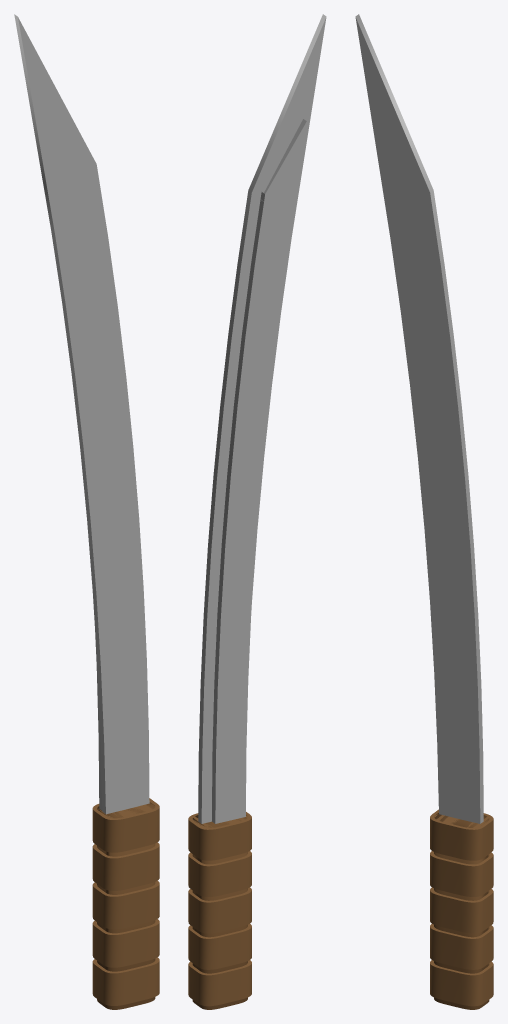
Rendered from Katanas.glb.
3 views of the same model, side by side, from view 1: azimuth 30°, elevation 25°; view 2: azimuth 210°, elevation 25°; view 3: azimuth 330°, elevation 25° (orthographic). The views are drawn at different scales.
Parts seen in each view (by area): view 1: Root; view 2: Root; view 3: Root.
Part boxes in pixels (x1,y1,x2,y2): Root: (14,14,159,1009); Root: (188,14,326,1009); Root: (355,14,493,1009).
Size of the model in its own units: 0.1605 by 1.13 by 0.0451.
